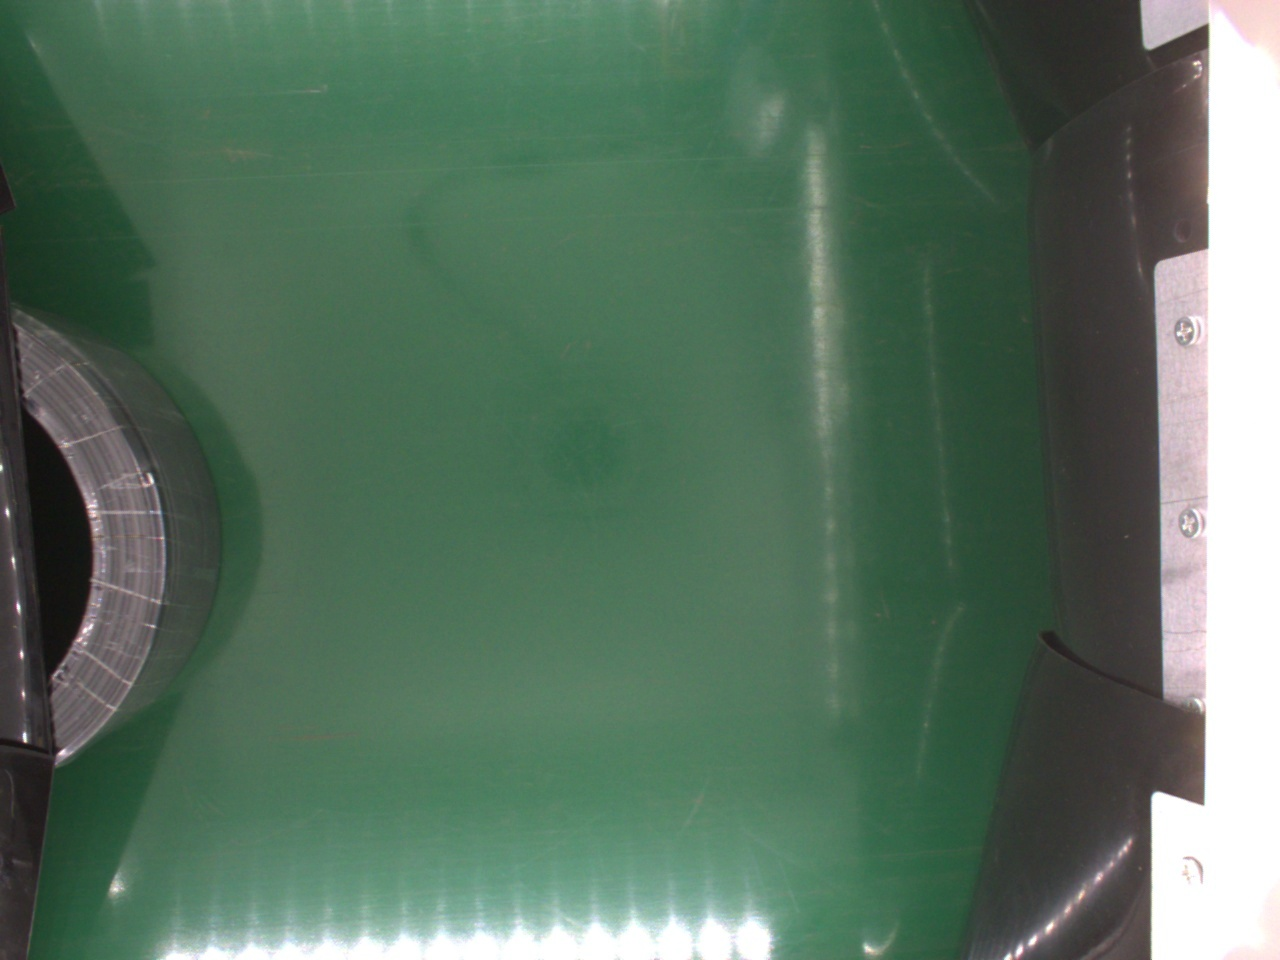black: (13, 299, 231, 766)
